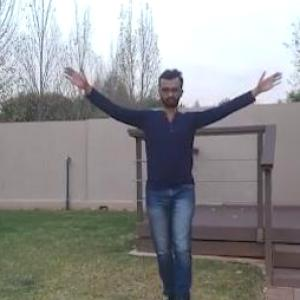takeoff: (65, 65, 286, 299)
